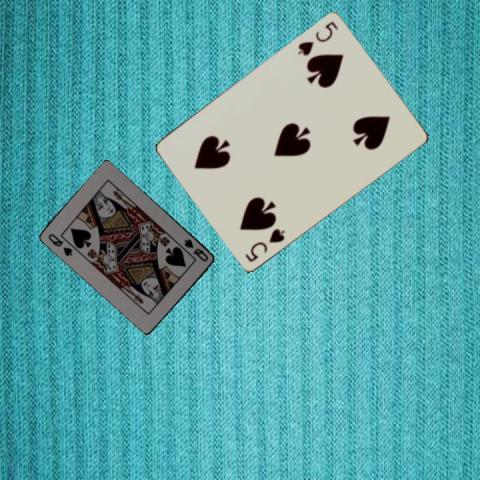5s: (295, 18, 340, 57), (242, 225, 287, 263)
Qs: (181, 236, 210, 264), (45, 231, 74, 257)
